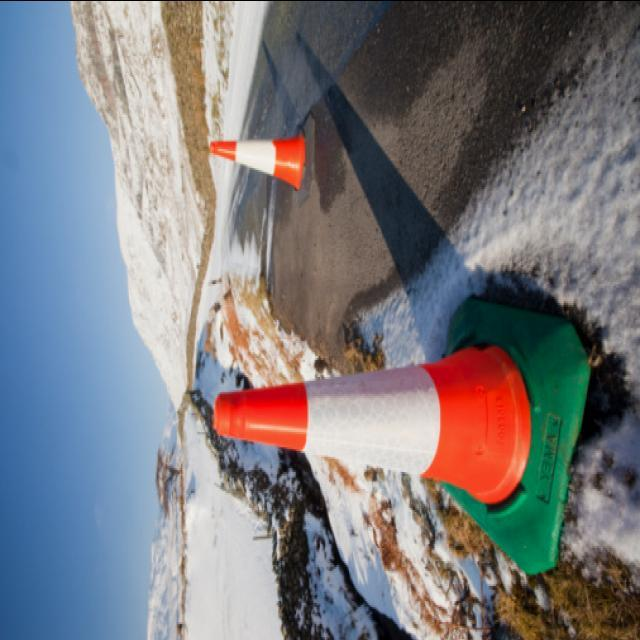traffic cone: (212, 290, 598, 576)
